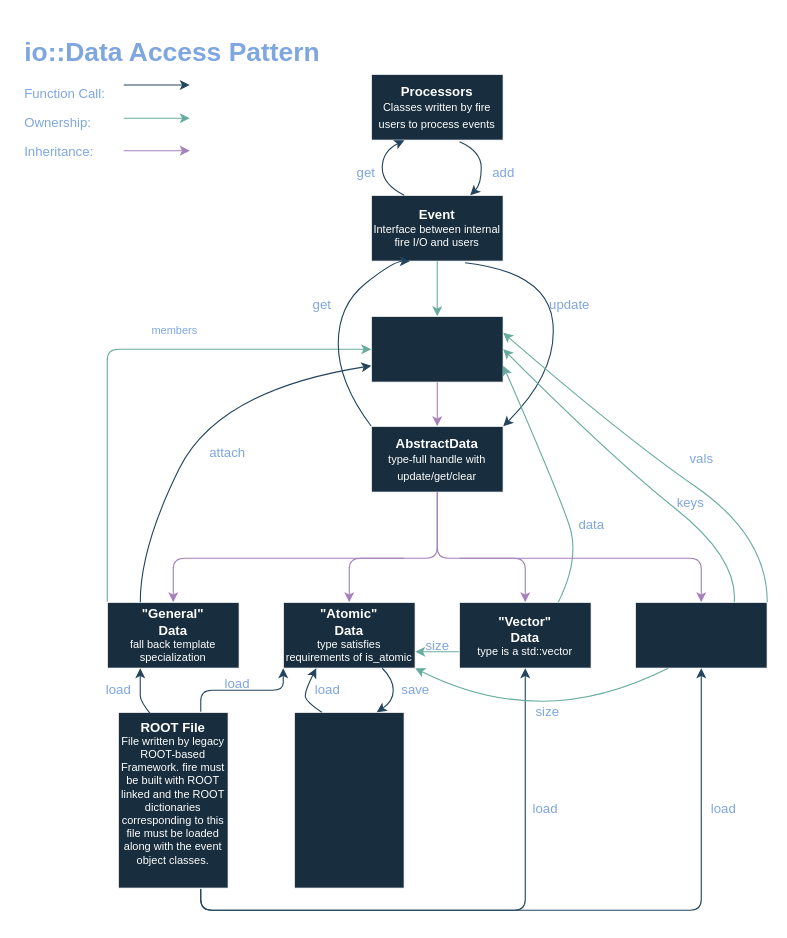
This 787x938 diagram has some shape labels left out. The shapes that lost their labels are listed below. From the top down, each one's centre as x and y in pixels, then its label:
(x=436, y=348): BaseData type-less handle with load/save
(x=700, y=634): "Map" Data type is a std::map
(x=348, y=799): H5 File File written and read by fire.
